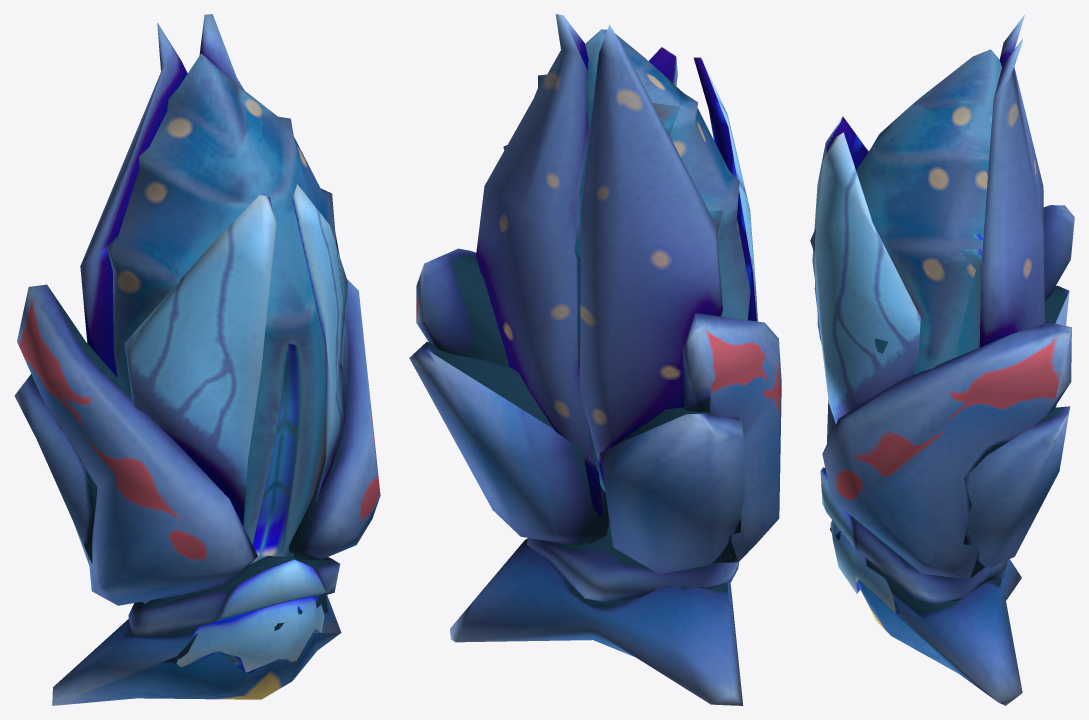
The model's file is cocoon mantah.fbx.
3 views of the same model, side by side, from view 1: azimuth 30°, elevation 25°; view 2: azimuth 150°, elevation 25°; view 3: azimuth 270°, elevation 25° (orthographic). The views are drawn at different scales.
Parts seen in each view (by area): view 1: mantah cocoon; view 2: mantah cocoon; view 3: mantah cocoon.
Part boxes in pixels (box(x1,y1,x2,y2)): mantah cocoon: box(14, 14, 380, 705); mantah cocoon: box(409, 14, 781, 705); mantah cocoon: box(810, 15, 1074, 705).
Bounding box in the file's own units: 311 × 625 × 243.
1 material, 1 textured.
